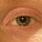eye: (18, 18, 30, 25)
